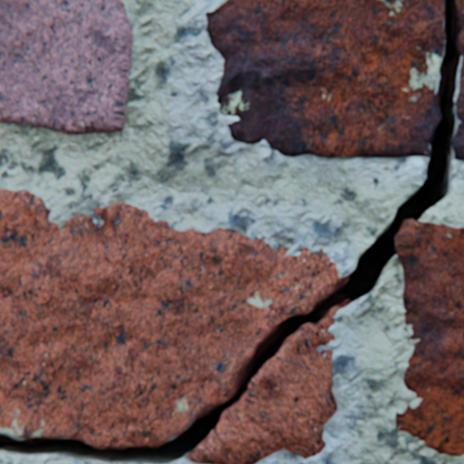brick: (0, 0, 134, 135), (394, 220, 463, 455)
broken_brick: (0, 190, 340, 447), (206, 0, 444, 158), (186, 306, 339, 463), (453, 0, 463, 161)
crack: (0, 0, 461, 463), (312, 424, 324, 427)
